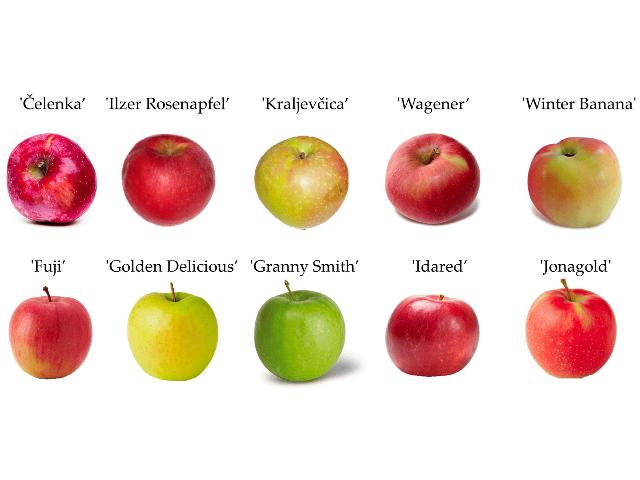green apple: (255, 282, 346, 383), (127, 284, 219, 382)
red apple: (526, 280, 618, 380), (255, 136, 349, 231), (122, 135, 216, 228), (386, 134, 481, 226), (528, 137, 622, 229), (7, 134, 97, 225), (9, 287, 93, 381), (386, 296, 480, 379)
